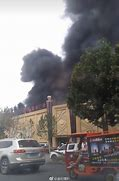smoke: (20, 1, 119, 98)
